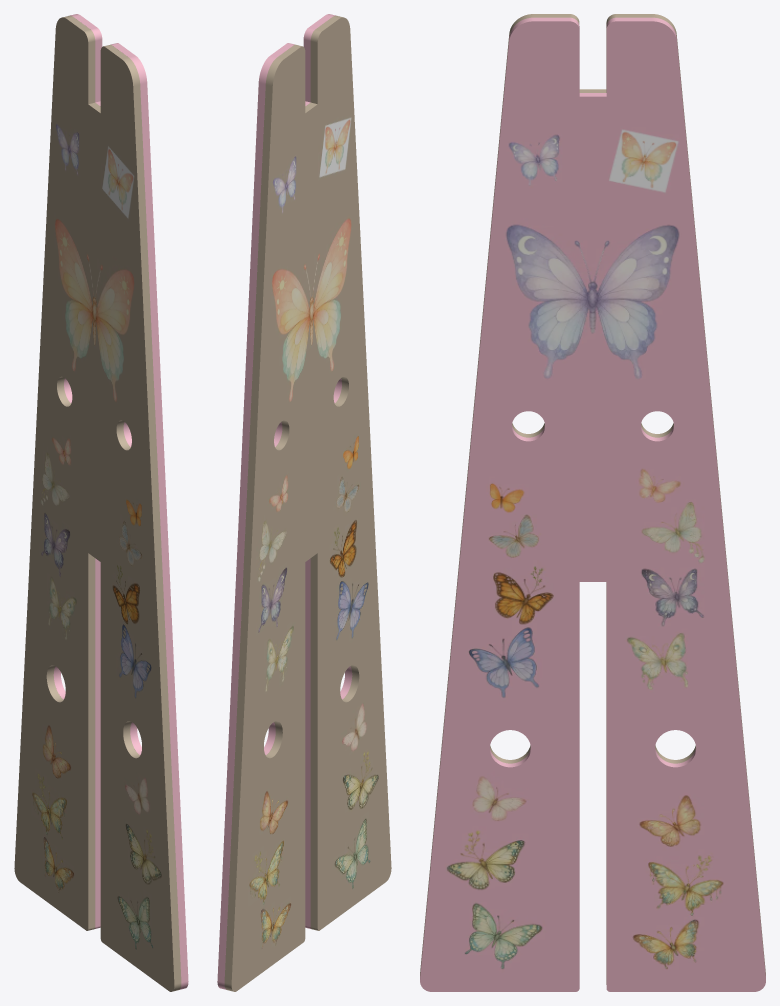
The picture shows the model from 3 angles, left to right: view 1: azimuth 30°, elevation 25°; view 2: azimuth 150°, elevation 25°; view 3: azimuth 270°, elevation 25°; orthographic projection. The views are drawn at different scales.
Parts seen in each view (by area): view 1: p008; view 2: p008; view 3: p008.
Part boxes in pixels (bbox=[...]): p008: bbox=[14, 14, 188, 991]; p008: bbox=[217, 14, 391, 991]; p008: bbox=[420, 14, 765, 991].
Size of the model in its own units: 18 by 1095 by 354.
4 materials, 2 textured.
